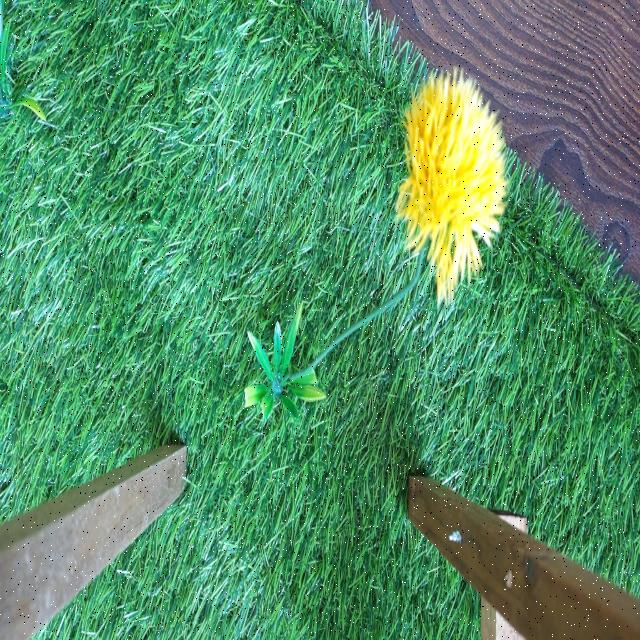base: (246, 302, 326, 422), (0, 1, 46, 122)
flower: (402, 71, 507, 292)
